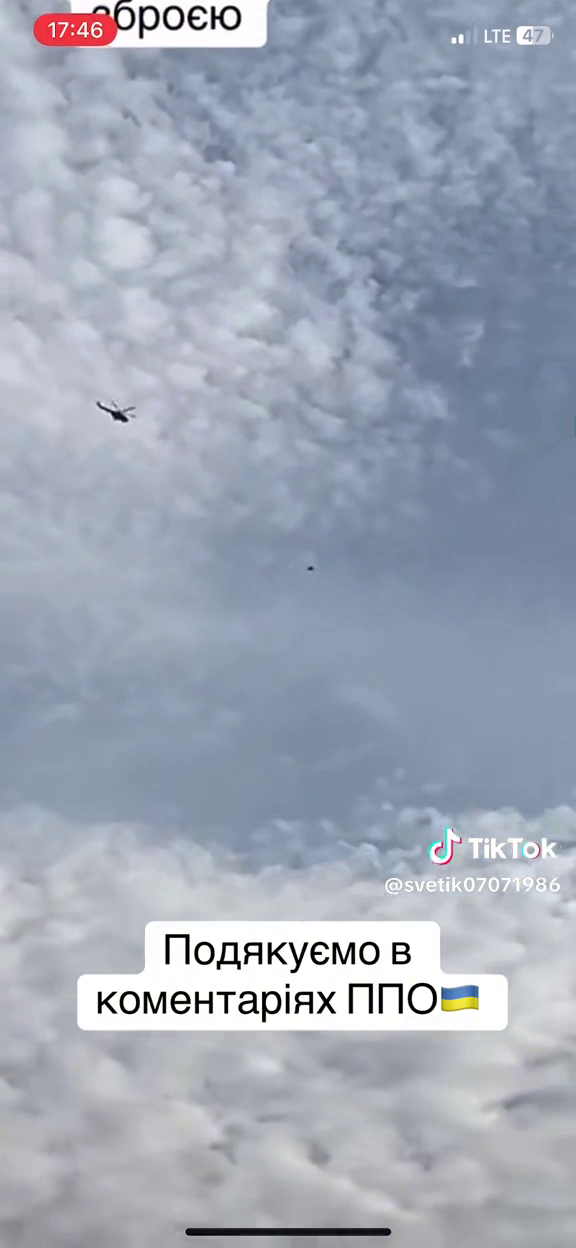not_drone: (94, 396, 139, 428)
